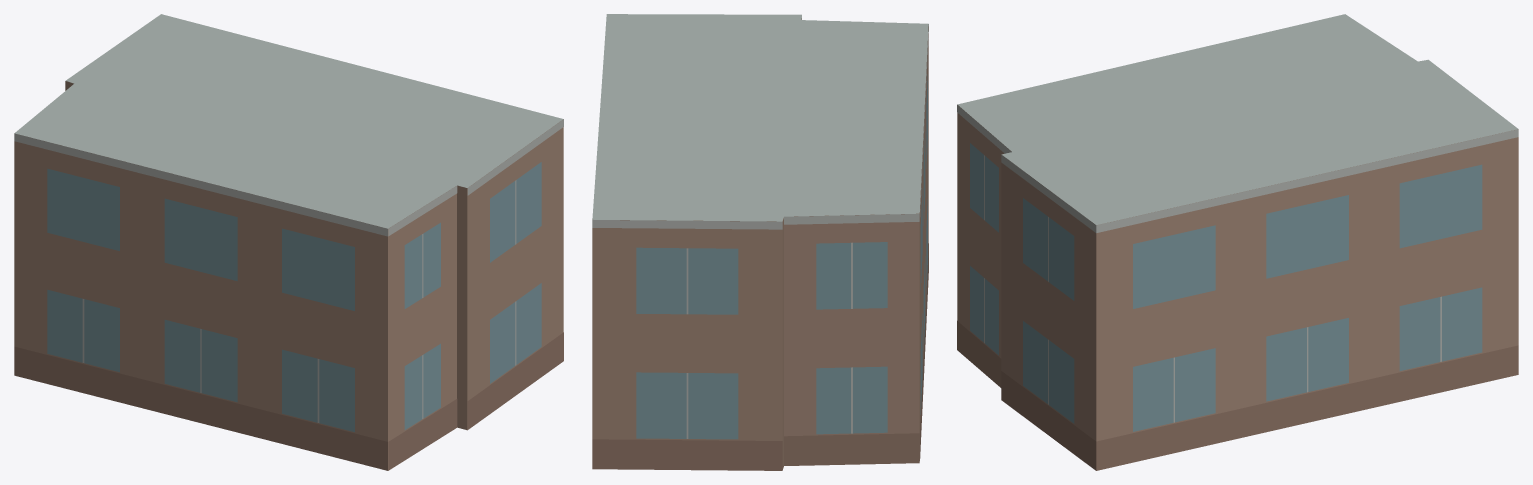
Rendered from survey-upis-32637249.glb.
3 views of the same model, side by side, from view 1: azimuth 30°, elevation 25°; view 2: azimuth 150°, elevation 25°; view 3: azimuth 270°, elevation 25° (orthographic). The views are drawn at different scales.
Visible parts, largest first — view 1: survey-upis-32637249.tmp; view 2: survey-upis-32637249.tmp; view 3: survey-upis-32637249.tmp.
Boxes of the visible parts, x1=… form: survey-upis-32637249.tmp: x1=14, y1=14, x2=563, y2=470; survey-upis-32637249.tmp: x1=592, y1=14, x2=928, y2=470; survey-upis-32637249.tmp: x1=957, y1=14, x2=1518, y2=470.
Bounding box in the file's own units: 13.84 × 7.5 × 15.55.
